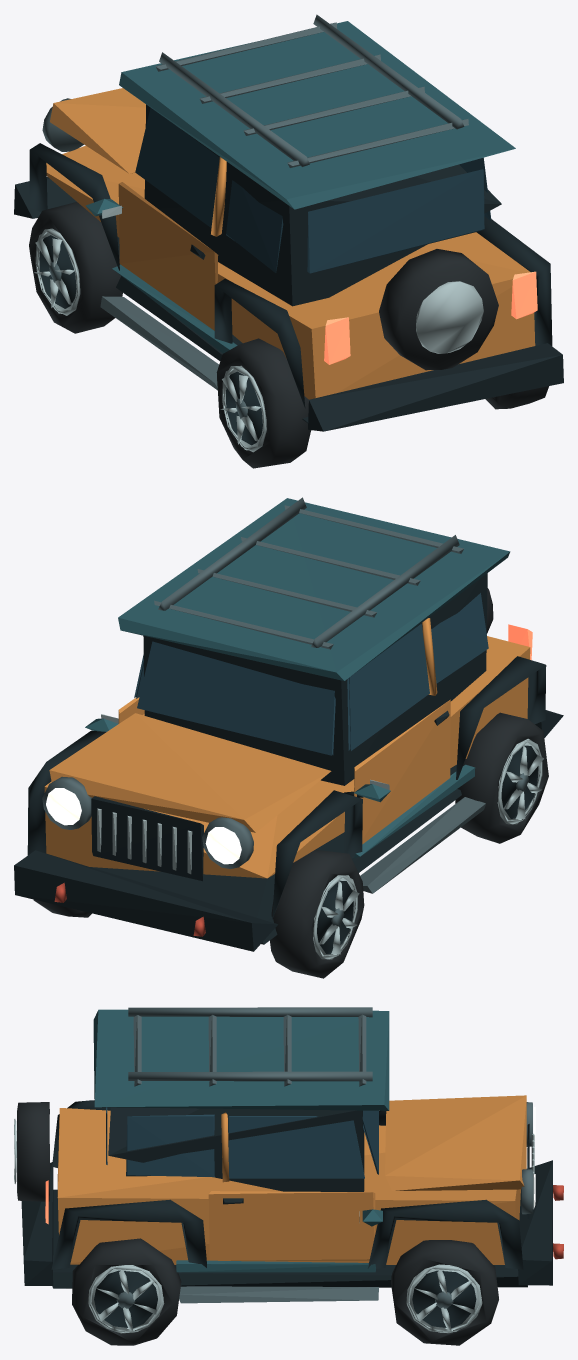
Rendered from trail-jeep.low.glb.
3 views of the same model, one above another, from view 1: azimuth 30°, elevation 25°; view 2: azimuth 150°, elevation 25°; view 3: azimuth 270°, elevation 25° (orthographic). The views are drawn at different scales.
Visible parts, largest first — view 1: geometry:body:2, geometry:body:0, geometry:body:1, geometry:body:3, geometry:body:4, geometry:door-left:10, geometry:body:9, geometry:rear-left:24, geometry:front-left:20, geometry:door-left:11, geometry:body:5, geometry:body:7 (+5 smaller); view 2: geometry:body:0, geometry:body:2, geometry:body:1, geometry:body:3, geometry:body:4, geometry:door-left:10, geometry:front-left:20, geometry:door-left:11, geometry:rear-left:24, geometry:body:6, geometry:rear-left:25, geometry:front-left:21 (+3 smaller); view 3: geometry:body:1, geometry:body:0, geometry:body:2, geometry:door-right:15, geometry:body:4, geometry:door-right:16, geometry:rear-right:32, geometry:front-right:28, geometry:body:3, geometry:body:9, geometry:rear-right:34, geometry:front-right:30 (+2 smaller).
Part boxes in pixels (x1,y1,x2,y2): geometry:body:2: [112, 21, 515, 353]; geometry:body:0: [14, 104, 563, 431]; geometry:body:1: [46, 88, 535, 399]; geometry:body:3: [226, 157, 491, 273]; geometry:body:4: [42, 14, 468, 389]; geometry:door-left:10: [118, 157, 226, 330]; geometry:body:9: [379, 249, 498, 370]; geometry:rear-left:24: [216, 338, 311, 468]; geometry:front-left:20: [29, 202, 122, 333]; geometry:door-left:11: [135, 107, 219, 227]; geometry:body:5: [416, 281, 483, 353]; geometry:body:7: [324, 271, 537, 364]; geometry:body:0: [14, 573, 563, 951]; geometry:body:2: [118, 498, 510, 858]; geometry:body:1: [44, 636, 530, 878]; geometry:body:3: [137, 593, 488, 755]; geometry:body:4: [42, 497, 485, 893]; geometry:door-left:10: [354, 618, 450, 844]; geometry:front-left:20: [270, 849, 364, 978]; geometry:door-left:11: [347, 624, 429, 750]; geometry:rear-left:24: [455, 712, 548, 843]; geometry:body:6: [46, 788, 241, 864]; geometry:rear-left:25: [497, 738, 543, 824]; geometry:front-left:21: [313, 875, 359, 959]; geometry:body:1: [57, 1095, 526, 1264]; geometry:body:0: [21, 1100, 552, 1288]; geometry:body:2: [93, 1009, 389, 1272]; geometry:door-right:15: [208, 1112, 375, 1260]; geometry:body:4: [128, 1007, 532, 1303]; geometry:door-right:16: [228, 1116, 364, 1178]; geometry:rear-right:32: [72, 1238, 181, 1345]; geometry:front-right:28: [391, 1240, 498, 1345]; geometry:body:3: [106, 1107, 378, 1177]; geometry:body:9: [17, 1102, 49, 1201]; geometry:rear-right:34: [94, 1270, 157, 1328]; geometry:front-right:30: [412, 1270, 476, 1328].
Bounding box in the file's own units: 2.54 × 2.4 × 4.77.
